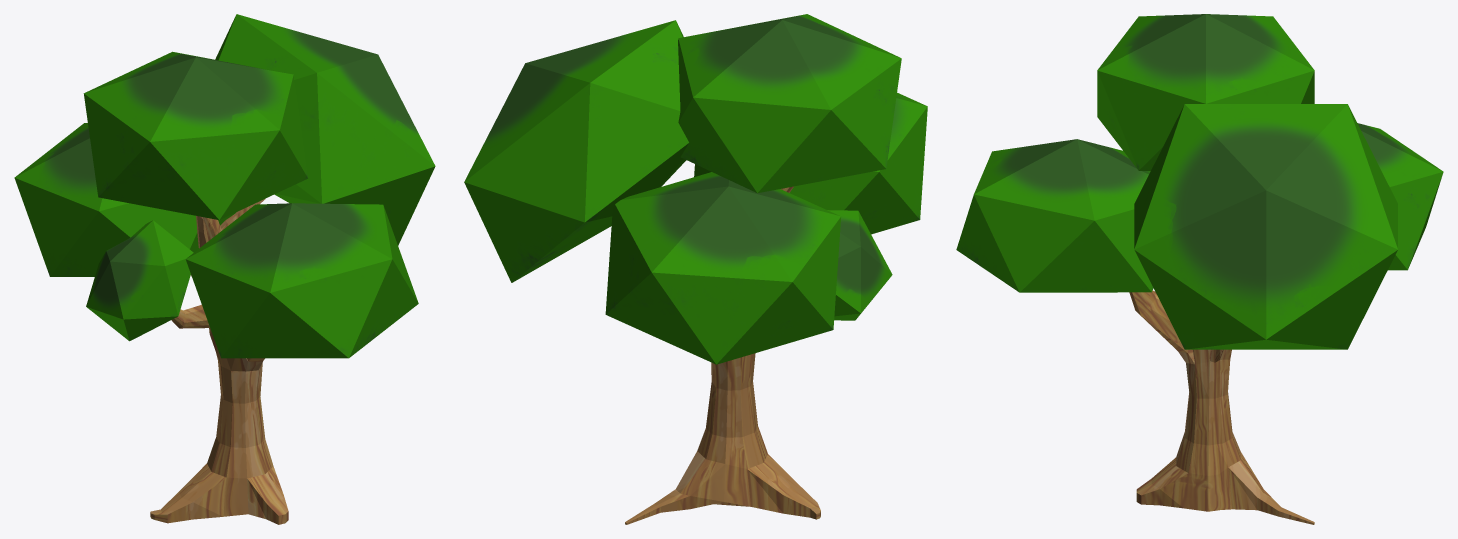
The model's file is Live_Tree1.fbx.
3 views of the same model, side by side, from view 1: azimuth 30°, elevation 25°; view 2: azimuth 150°, elevation 25°; view 3: azimuth 270°, elevation 25° (orthographic). The views are drawn at different scales.
Parts seen in each view (by area): view 1: Live_Tree_1; view 2: Live_Tree_1; view 3: Live_Tree_1.
Boxes of the visible parts, x1=… form: Live_Tree_1: x1=14, y1=14, x2=435, y2=524; Live_Tree_1: x1=464, y1=14, x2=927, y2=524; Live_Tree_1: x1=956, y1=14, x2=1443, y2=524.
Bounding box in the file's own units: 5.71 × 6.61 × 6.94.
